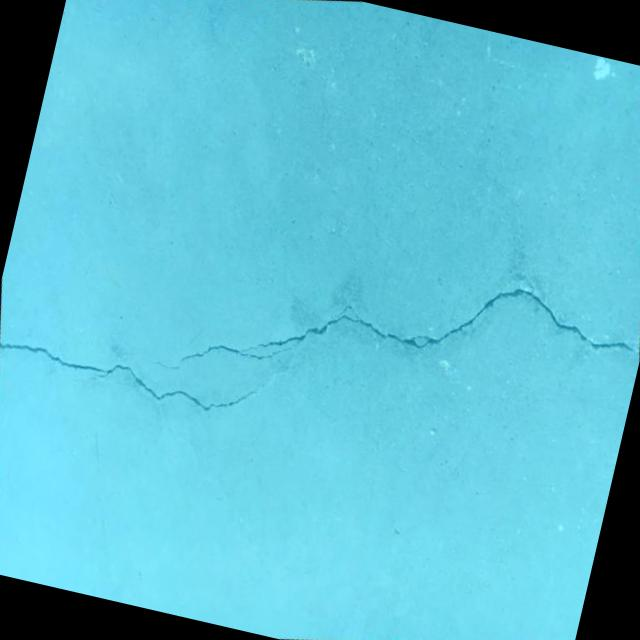crack: (137, 184, 640, 473), (0, 293, 276, 462)
